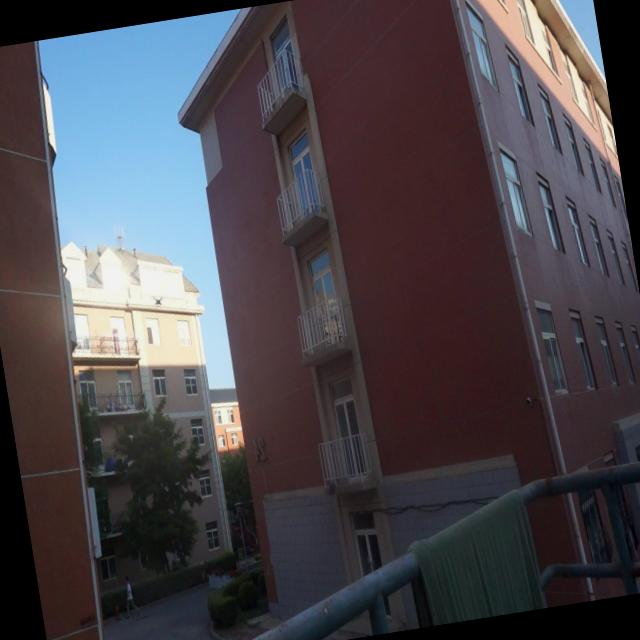drone: (150, 292, 165, 310)
